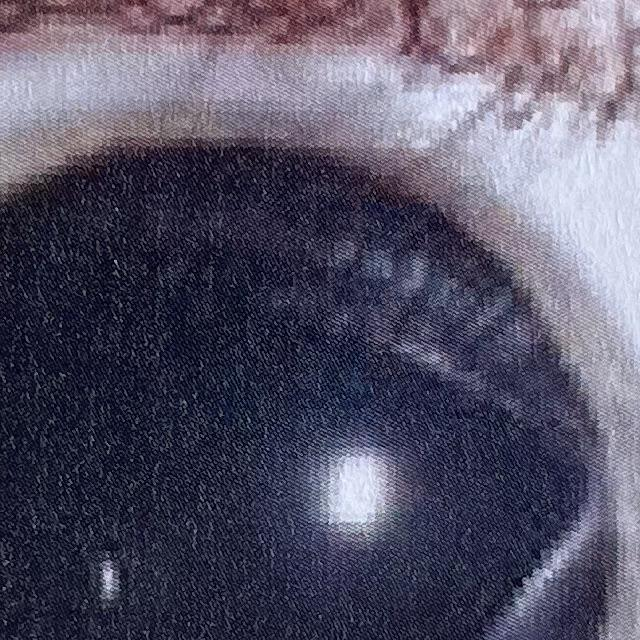eye: (0, 9, 640, 640)
iris: (0, 99, 640, 640)
